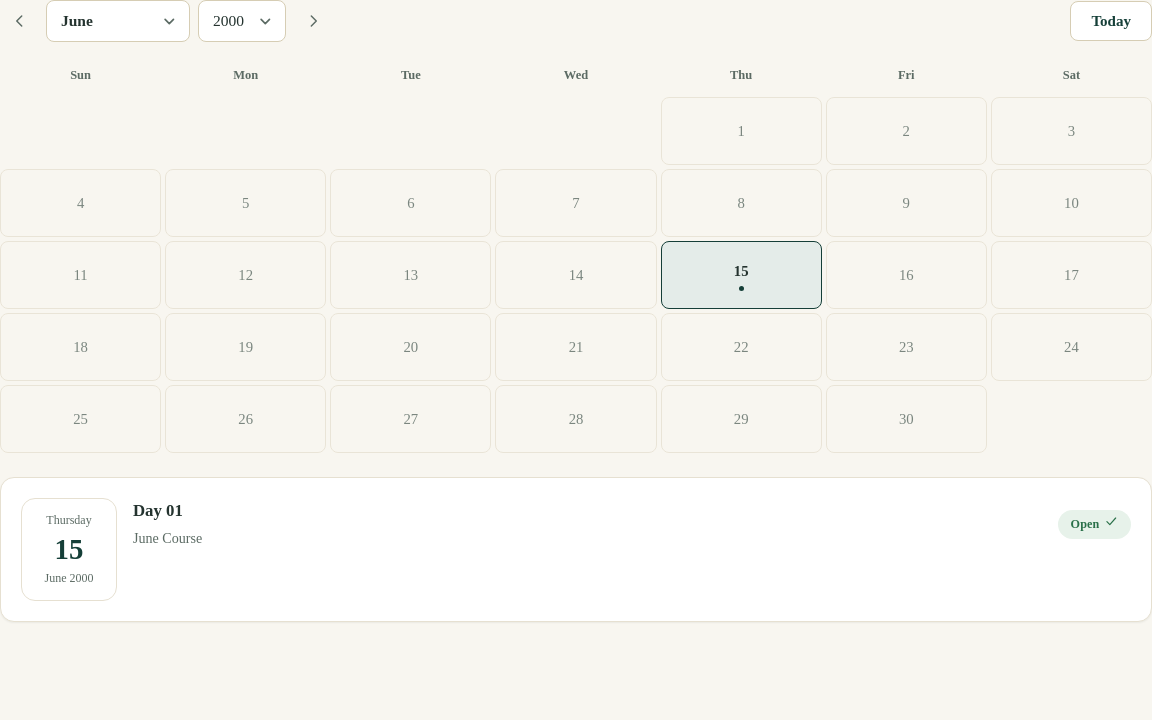
Test case: TrainingDaysCalendar › lets the user jump directly to a month/year instead of only stepping one at a time
Expected: the text "June Course" is shown, [133,530,202,546]
Click the dropdown named "Month" at (118, 21), box [46,0,190,42]
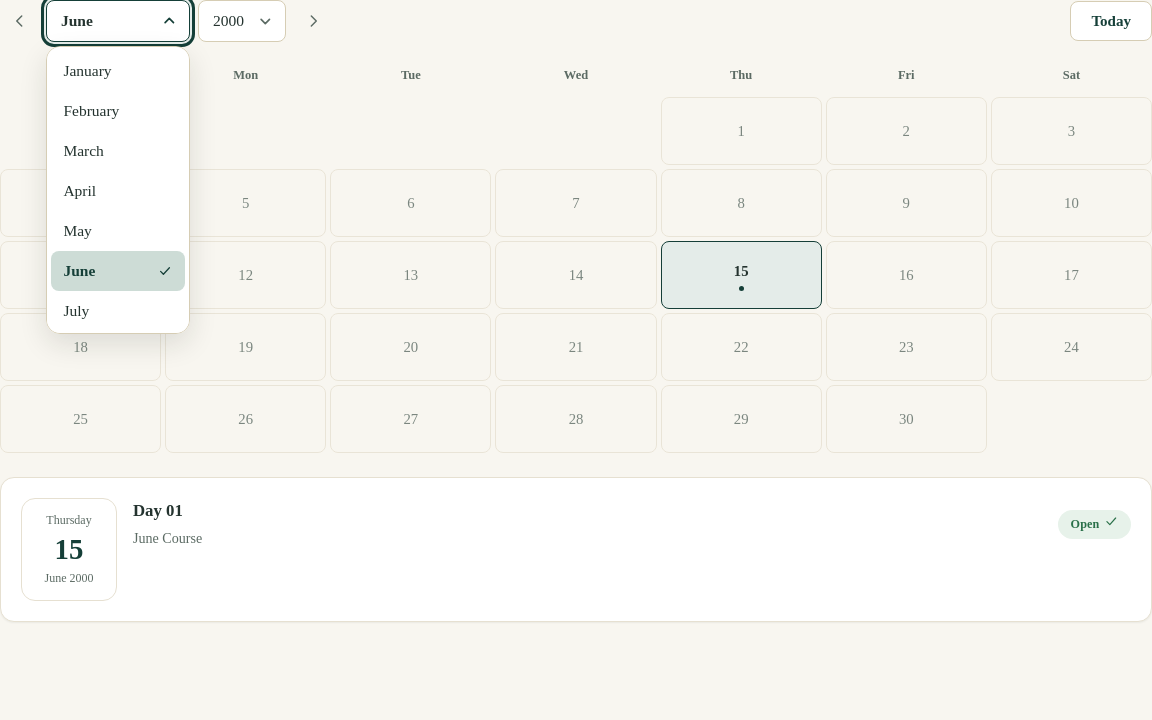
Click the option "January" at (88, 70), box [63,62,112,79]
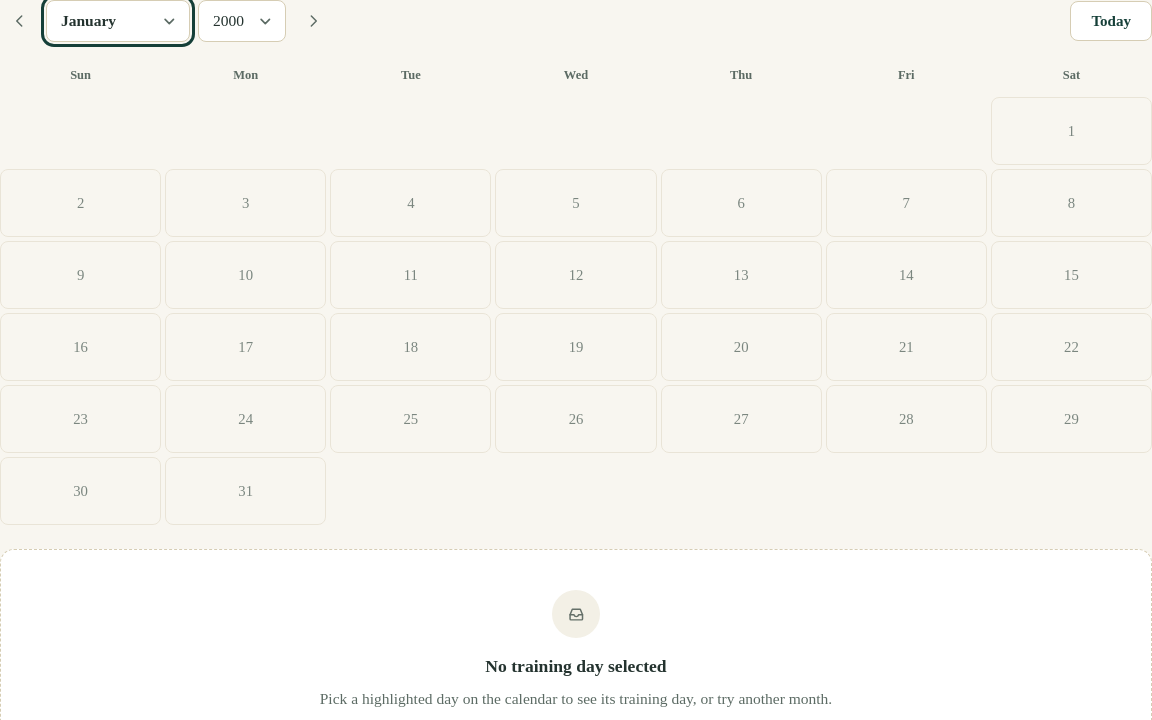
Now the text "June Course" is gone
Now the heading "No training day selected" is shown, box [485,656,667,676]
Click the dropdown named "Month" at (118, 21), box [46,0,190,42]
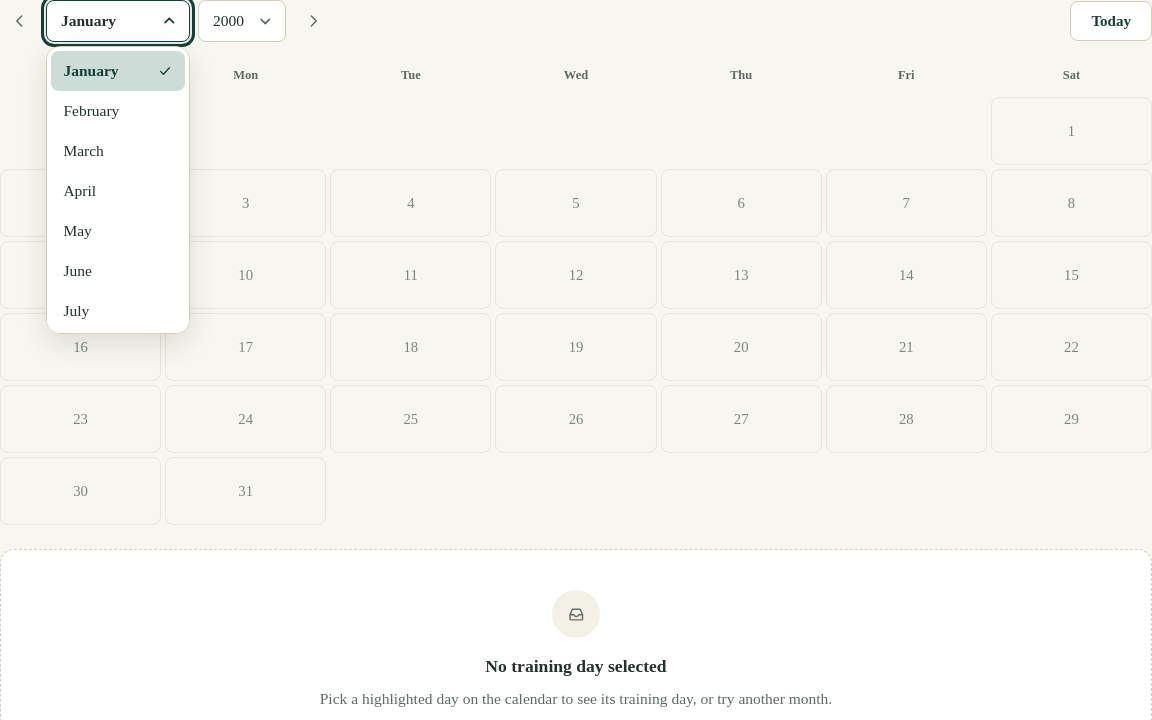
Click the option "June" at (78, 270), box [63,262,92,279]
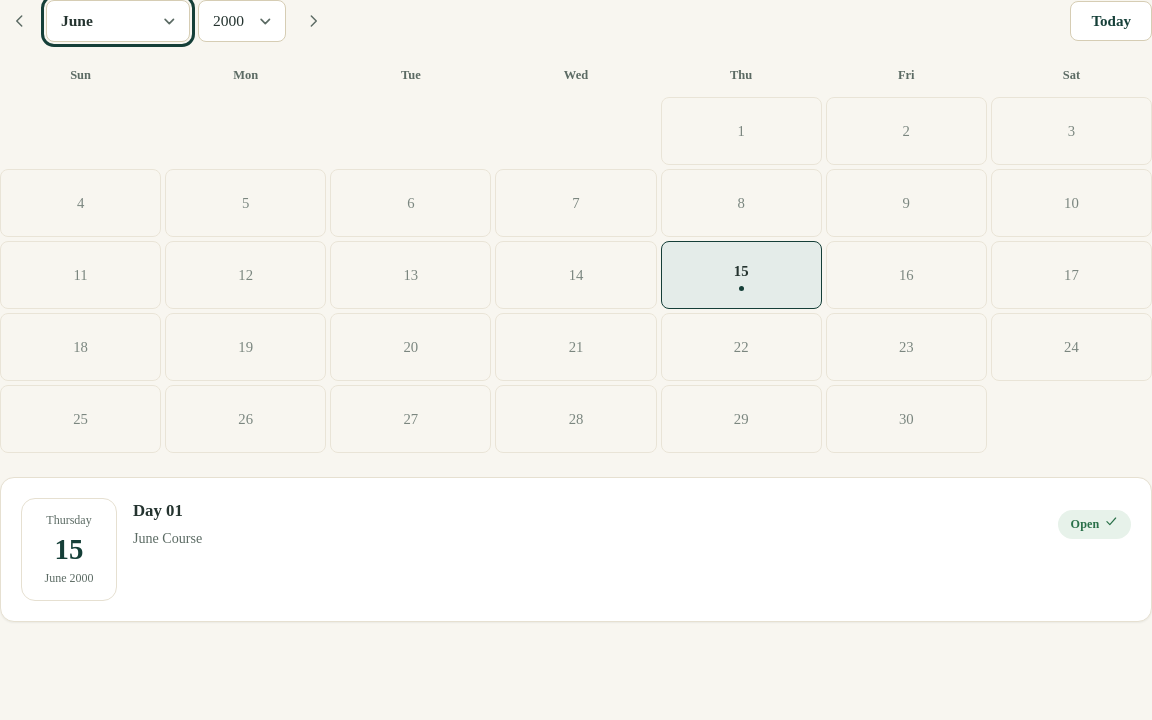
Now the text "June Course" is shown, box [133,530,202,546]
